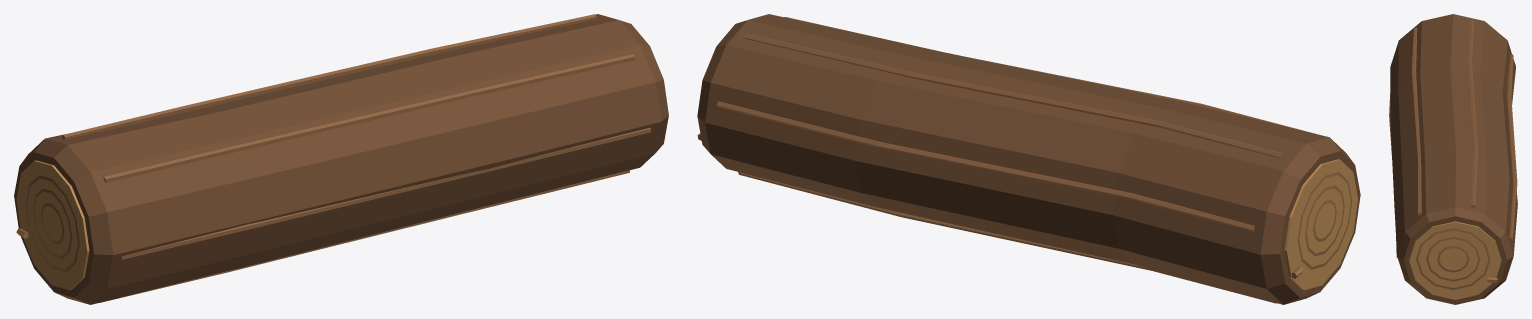
The model's file is log.glb.
3 views of the same model, side by side, from view 1: azimuth 30°, elevation 25°; view 2: azimuth 150°, elevation 25°; view 3: azimuth 270°, elevation 25° (orthographic). The views are drawn at different scales.
Parts seen in each view (by area): view 1: Fireside Log; view 2: Fireside Log; view 3: Fireside Log.
Boxes of the visible parts, x1=… form: Fireside Log: x1=14, y1=14, x2=668, y2=304; Fireside Log: x1=697, y1=14, x2=1360, y2=304; Fireside Log: x1=1389, y1=14, x2=1517, y2=304.
Size of the model in its own units: 2.18 by 0.54 by 0.596.
